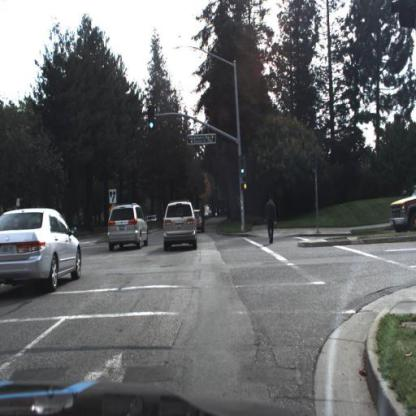car: (1, 209, 87, 299), (106, 202, 150, 252), (164, 202, 199, 252), (386, 186, 416, 235), (193, 206, 206, 238), (194, 209, 207, 237)
pedestrian: (265, 192, 279, 247)
trafficLight-Green: (148, 106, 157, 135), (240, 154, 249, 181), (148, 107, 156, 131)
